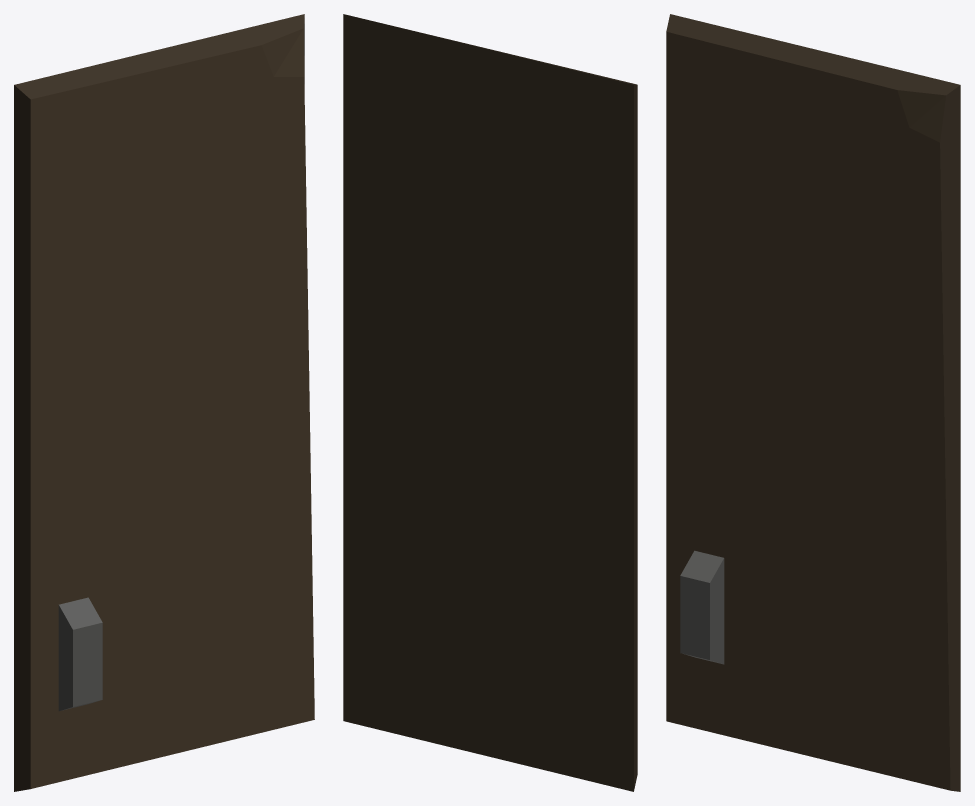
Rendered from SM_Prop_Wardrobe_01_Door_01.fbx.
The picture shows the model from 3 angles, left to right: view 1: azimuth 30°, elevation 25°; view 2: azimuth 150°, elevation 25°; view 3: azimuth 330°, elevation 25°; orthographic projection.
Visible parts, largest first — view 1: SM_Prop_Wardrobe_01_Door_01; view 2: SM_Prop_Wardrobe_01_Door_01; view 3: SM_Prop_Wardrobe_01_Door_01.
Boxes of the visible parts, x1=… form: SM_Prop_Wardrobe_01_Door_01: x1=14, y1=14, x2=314, y2=791; SM_Prop_Wardrobe_01_Door_01: x1=343, y1=14, x2=637, y2=791; SM_Prop_Wardrobe_01_Door_01: x1=666, y1=14, x2=960, y2=791.
Bounding box in the file's own units: 53.7 × 125 × 7.8.
